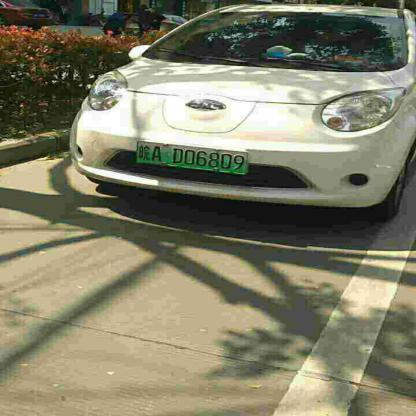lp: (136, 141, 248, 174)
